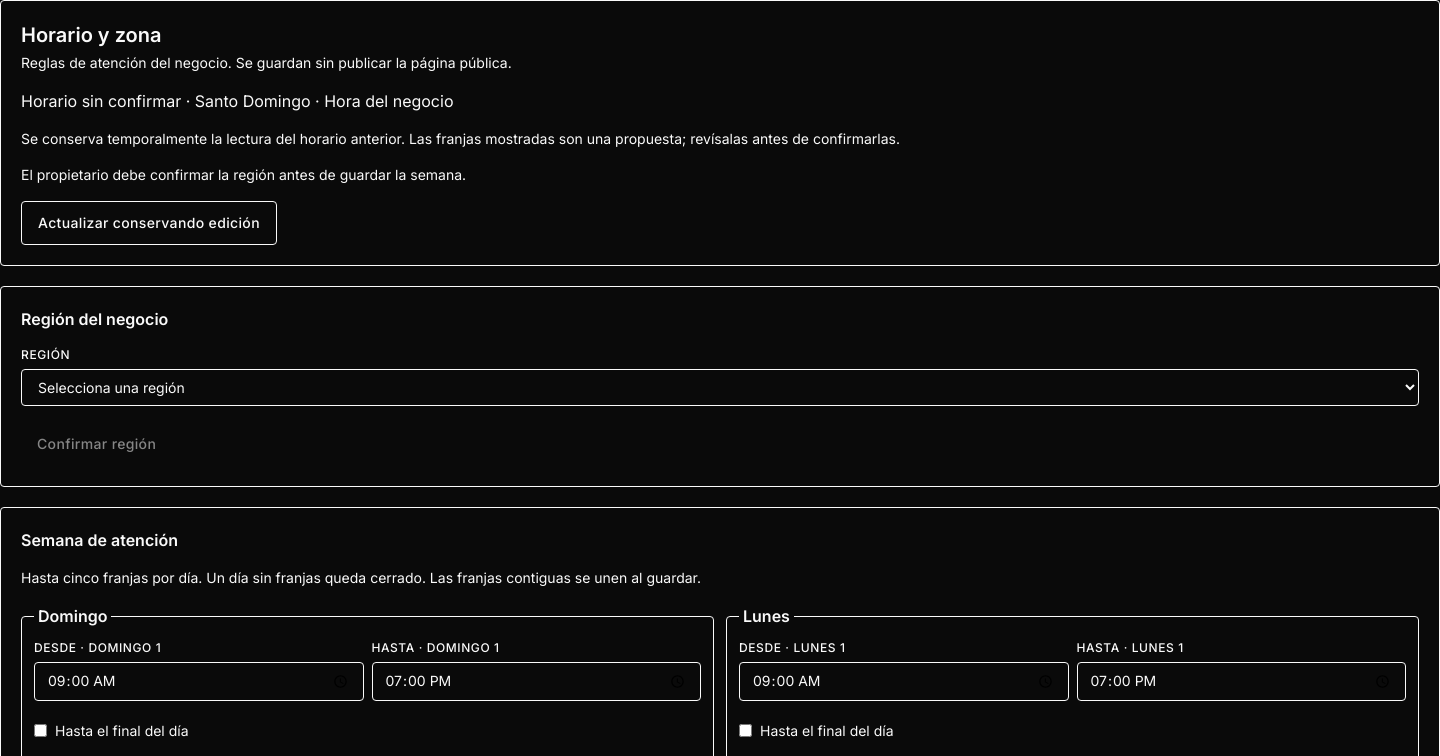
Test case: Horario D14/C2 › confirms the region without discarding a draft week
Replace the text in the time field labelled "Hasta · Lunes 1" with "18:00": (1241, 681) [1076,662,1406,701]
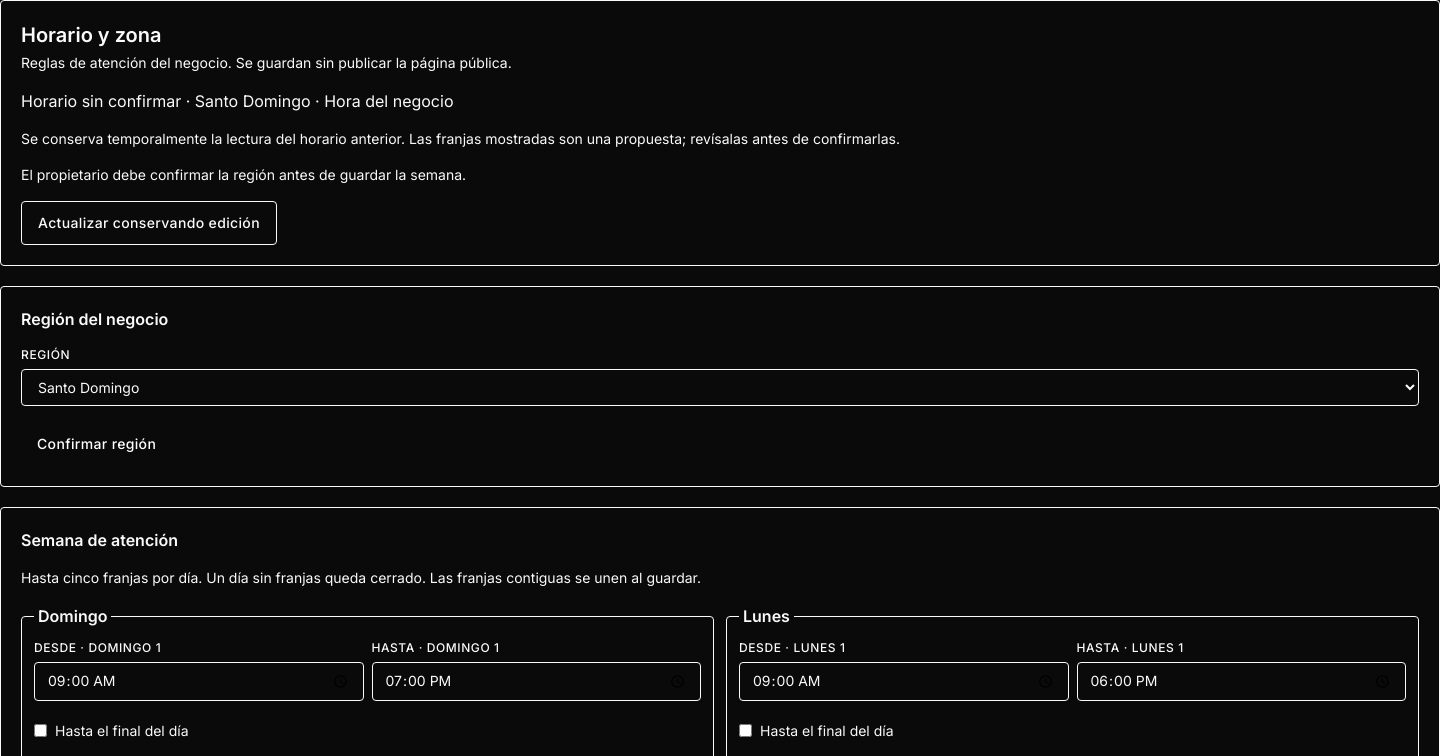
Click the button "Confirmar región": (97, 444) [21,422,172,466]
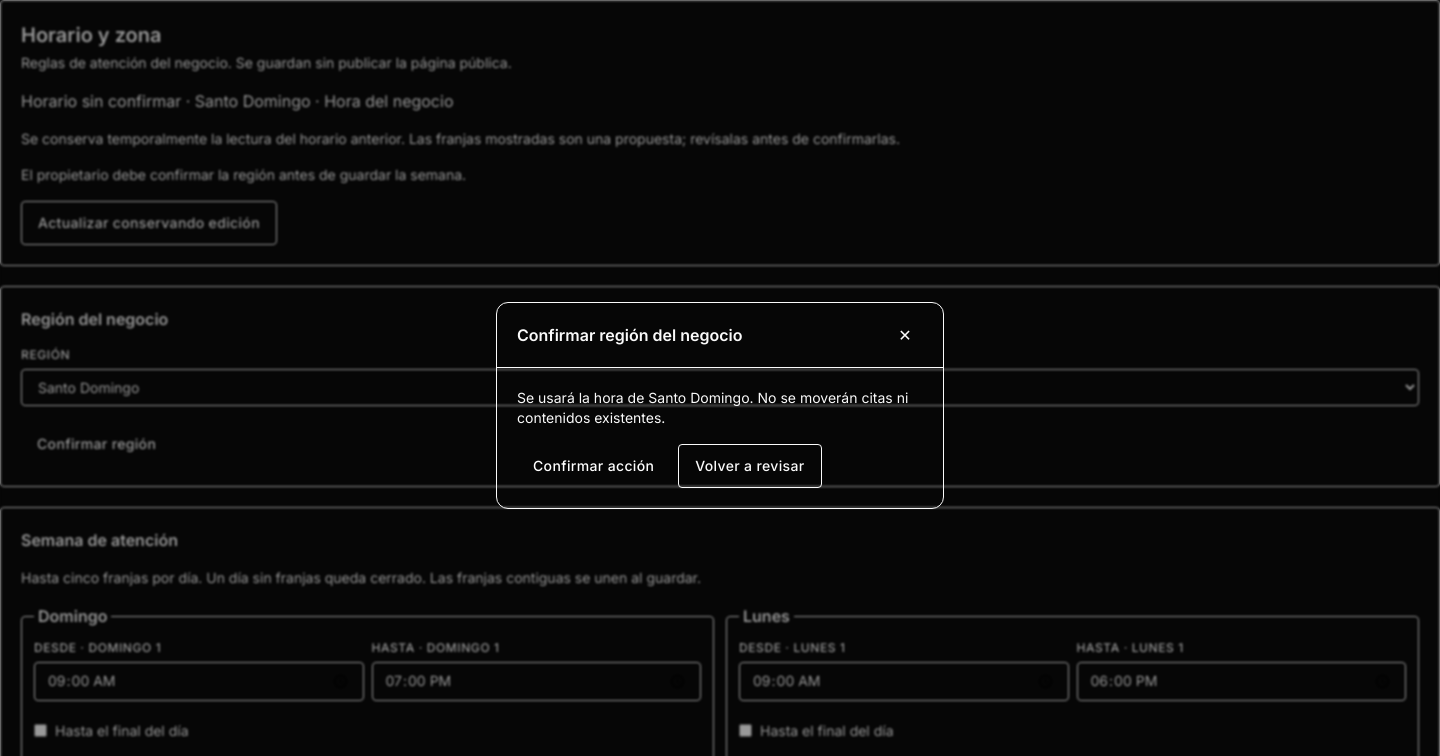
Click the button "Confirmar acción": (594, 466) [517,444,670,488]
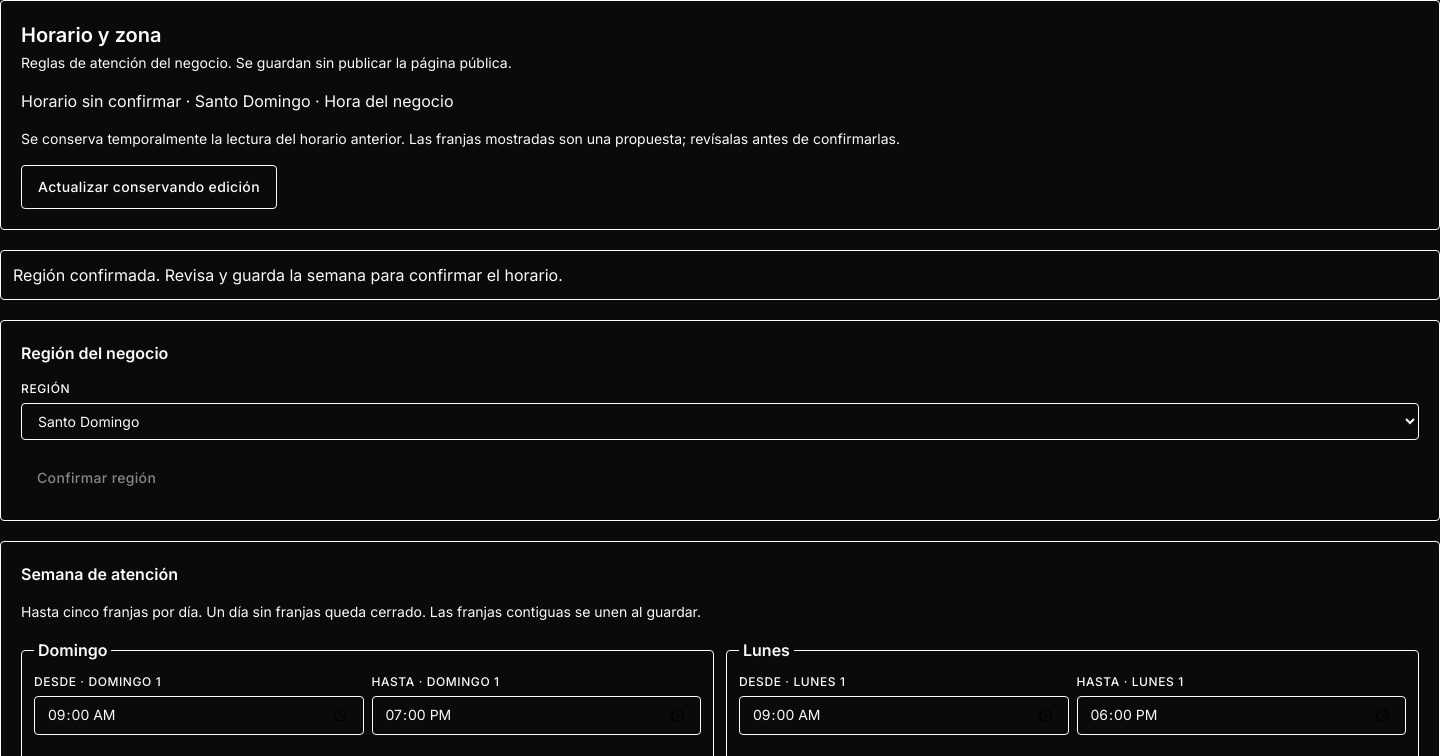
Result: the text "Región confirmada. Revisa y guarda la semana para confirmar el horario." is shown at [0,250,1439,300]
